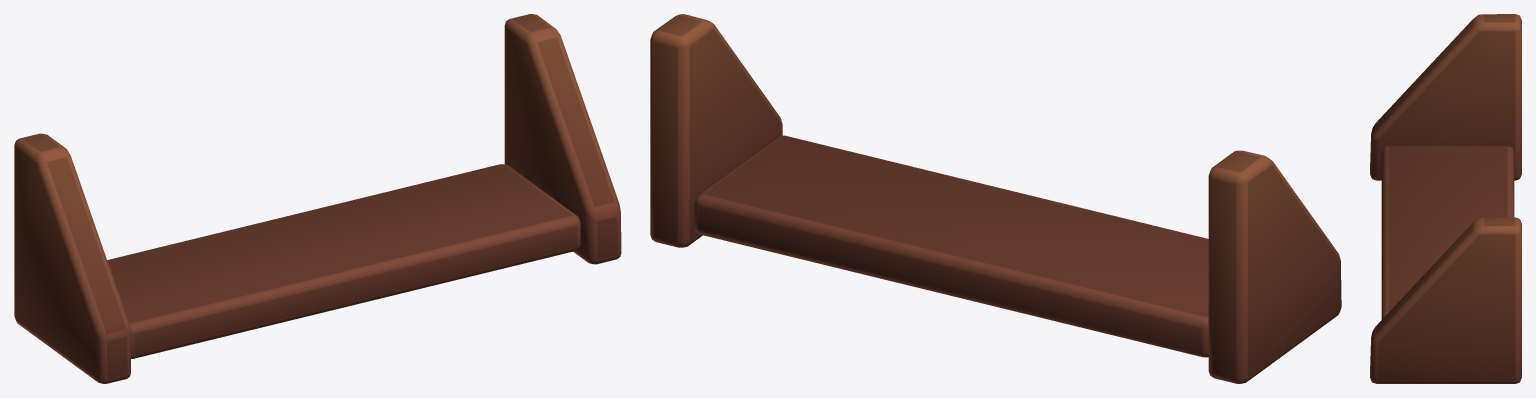
The model's file is shelf.fbx.
3 renders of one model, left to right at view 1: azimuth 30°, elevation 25°; view 2: azimuth 150°, elevation 25°; view 3: azimuth 270°, elevation 25°, orthographic. The views are drawn at different scales.
Parts seen in each view (by area): view 1: shelf; view 2: shelf; view 3: shelf.
Boxes of the visible parts, x1,y1,x2,y2 form: shelf: (14, 14, 621, 383); shelf: (650, 14, 1341, 383); shelf: (1370, 14, 1521, 383).
Bounding box in the file's own units: 310 × 105 × 91.61.
